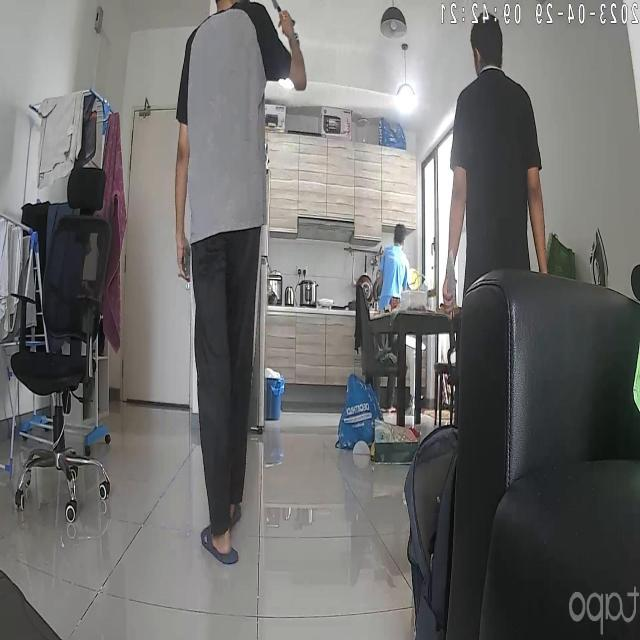Knife: (439, 244, 468, 330)
